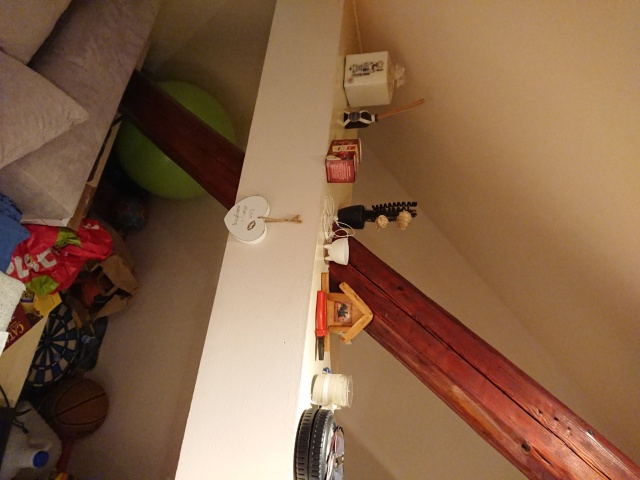Franck Apple Cinnamon Tea 60g: (322, 135, 364, 186)
